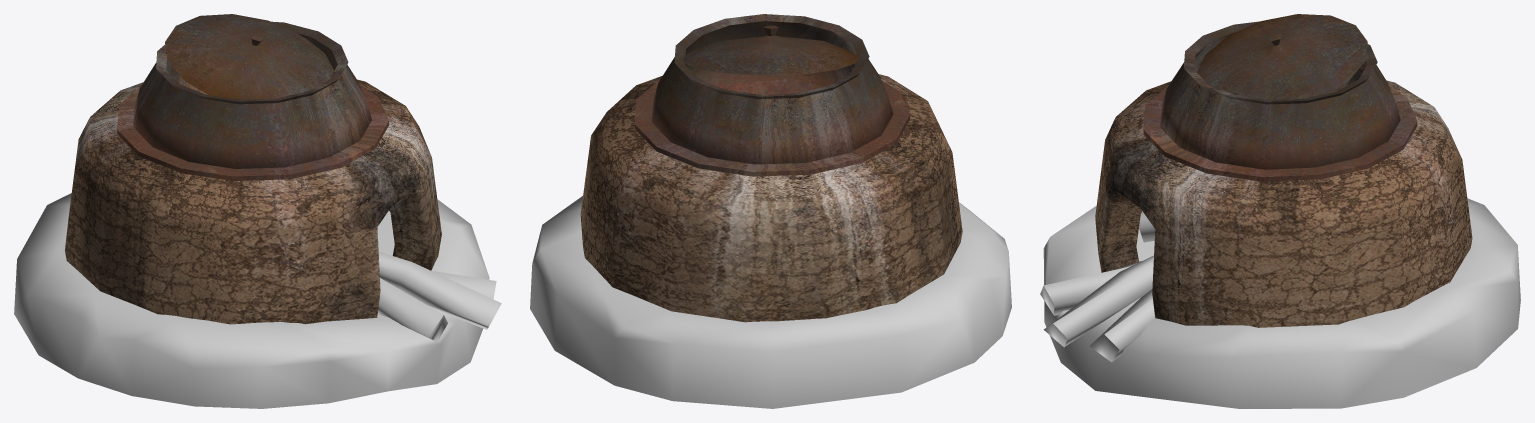
Rendered from tent_ex_b.fbx.
3 views of the same model, side by side, from view 1: azimuth 30°, elevation 25°; view 2: azimuth 150°, elevation 25°; view 3: azimuth 270°, elevation 25° (orthographic).
Visible parts, largest first — view 1: LOD_1_Group_0_Sub_2__B_kamado_02, LOD_1_Group_0_Sub_1__B_kamado_04, LOD_1_Group_0_Sub_3__B_kamado_03, LOD_1_Group_0_Sub_4__B_kamado_01; view 2: LOD_1_Group_0_Sub_2__B_kamado_02, LOD_1_Group_0_Sub_1__B_kamado_04, LOD_1_Group_0_Sub_3__B_kamado_03; view 3: LOD_1_Group_0_Sub_2__B_kamado_02, LOD_1_Group_0_Sub_1__B_kamado_04, LOD_1_Group_0_Sub_3__B_kamado_03, LOD_1_Group_0_Sub_4__B_kamado_01.
Boxes of the visible parts, x1,y1,x2,y2 form: LOD_1_Group_0_Sub_2__B_kamado_02: (65, 79, 441, 324); LOD_1_Group_0_Sub_1__B_kamado_04: (14, 193, 489, 408); LOD_1_Group_0_Sub_3__B_kamado_03: (117, 14, 388, 180); LOD_1_Group_0_Sub_4__B_kamado_01: (377, 251, 501, 341); LOD_1_Group_0_Sub_2__B_kamado_02: (580, 74, 962, 322); LOD_1_Group_0_Sub_1__B_kamado_04: (530, 196, 1011, 408); LOD_1_Group_0_Sub_3__B_kamado_03: (634, 14, 909, 176); LOD_1_Group_0_Sub_2__B_kamado_02: (1095, 80, 1472, 327); LOD_1_Group_0_Sub_1__B_kamado_04: (1043, 198, 1520, 408); LOD_1_Group_0_Sub_3__B_kamado_03: (1143, 14, 1417, 181); LOD_1_Group_0_Sub_4__B_kamado_01: (1040, 211, 1155, 362).
Bounding box in the file's own units: 285 × 196 × 290.
